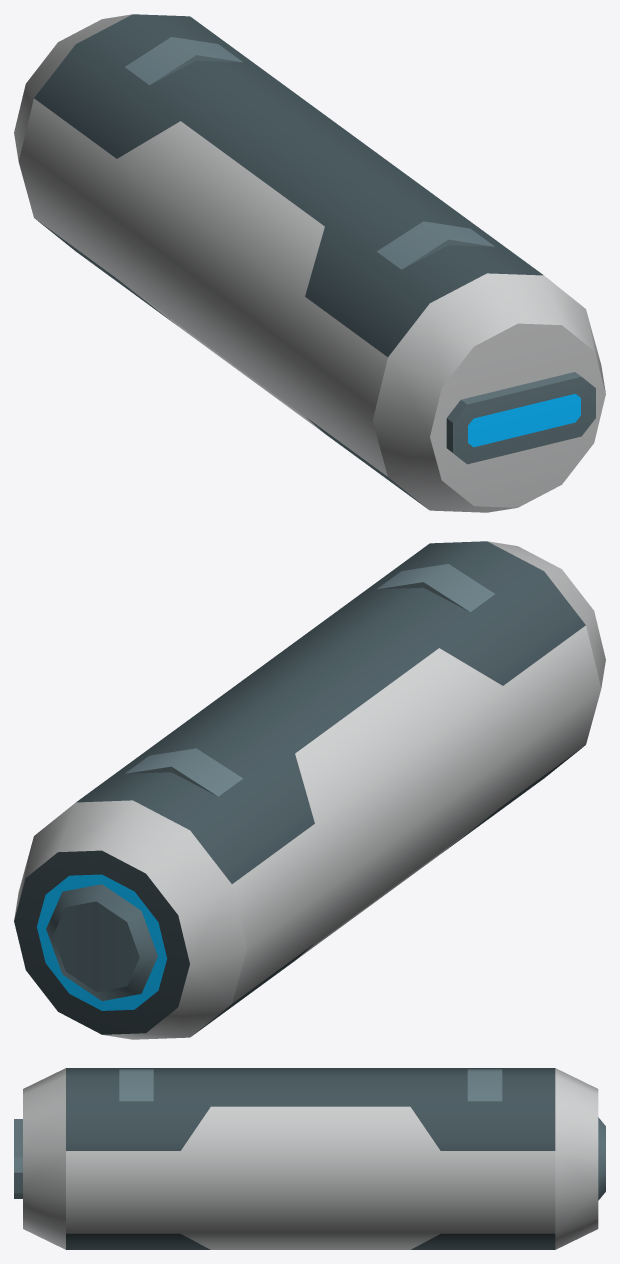
Rendered from Baloon_004.glb.
3 renders of one model, top to bottom at view 1: azimuth 30°, elevation 25°; view 2: azimuth 150°, elevation 25°; view 3: azimuth 270°, elevation 25°, orthographic. The views are drawn at different scales.
Parts seen in each view (by area): view 1: Baloon_004; view 2: Baloon_004; view 3: Baloon_004.
Part boxes in pixels (<box>): Baloon_004: <box>14,14,605,512</box>; Baloon_004: <box>14,541,605,1039</box>; Baloon_004: <box>14,1068,605,1249</box>.
Size of the model in its own units: 0.4 by 0.4094 by 1.3.
Materials: 2 (2 with a texture image).
